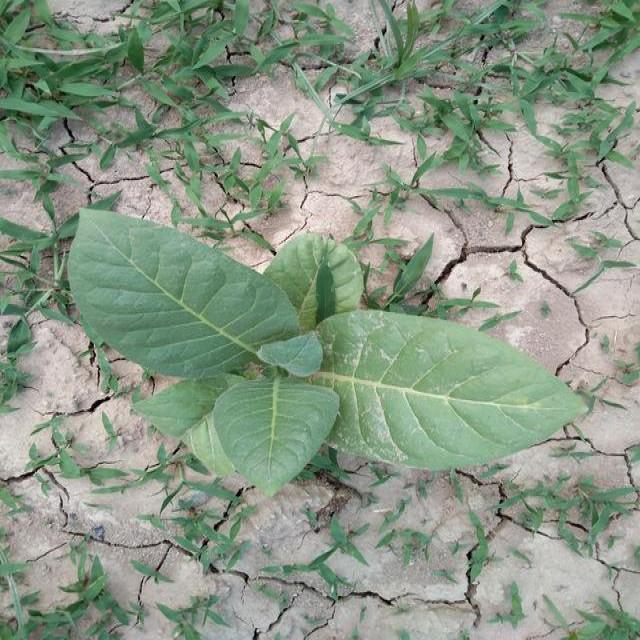crop: (73, 206, 584, 495)
